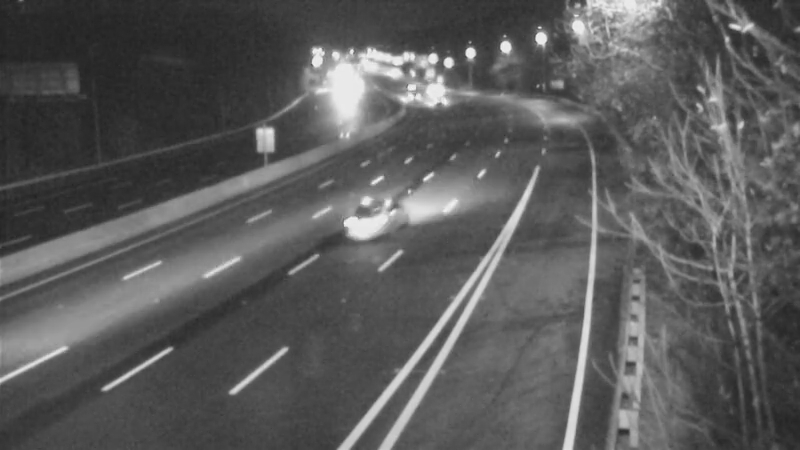vehicle: (322, 182, 402, 262), (384, 60, 434, 110), (376, 67, 426, 117), (409, 79, 459, 129)
